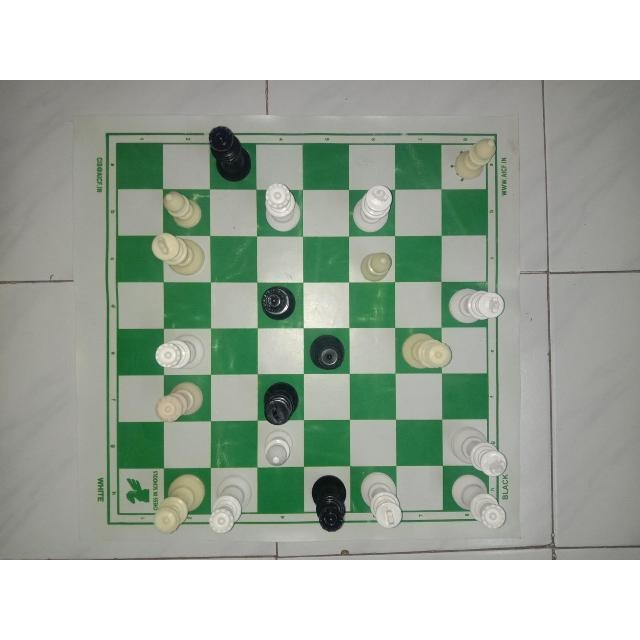black-king: (260, 379, 302, 426)
black-queen: (208, 123, 252, 185), (306, 471, 347, 535), (307, 332, 349, 373), (260, 285, 296, 323)
white-bishop: (451, 133, 498, 178), (161, 190, 203, 230), (355, 248, 393, 284), (260, 429, 296, 467)
white-king: (449, 424, 507, 478), (358, 469, 405, 529), (149, 231, 205, 277), (446, 285, 509, 324), (351, 183, 395, 237)
white-queen: (149, 473, 208, 537), (450, 473, 504, 529), (211, 471, 255, 537), (260, 180, 302, 234), (154, 380, 208, 422), (154, 332, 207, 372), (401, 331, 452, 370)
